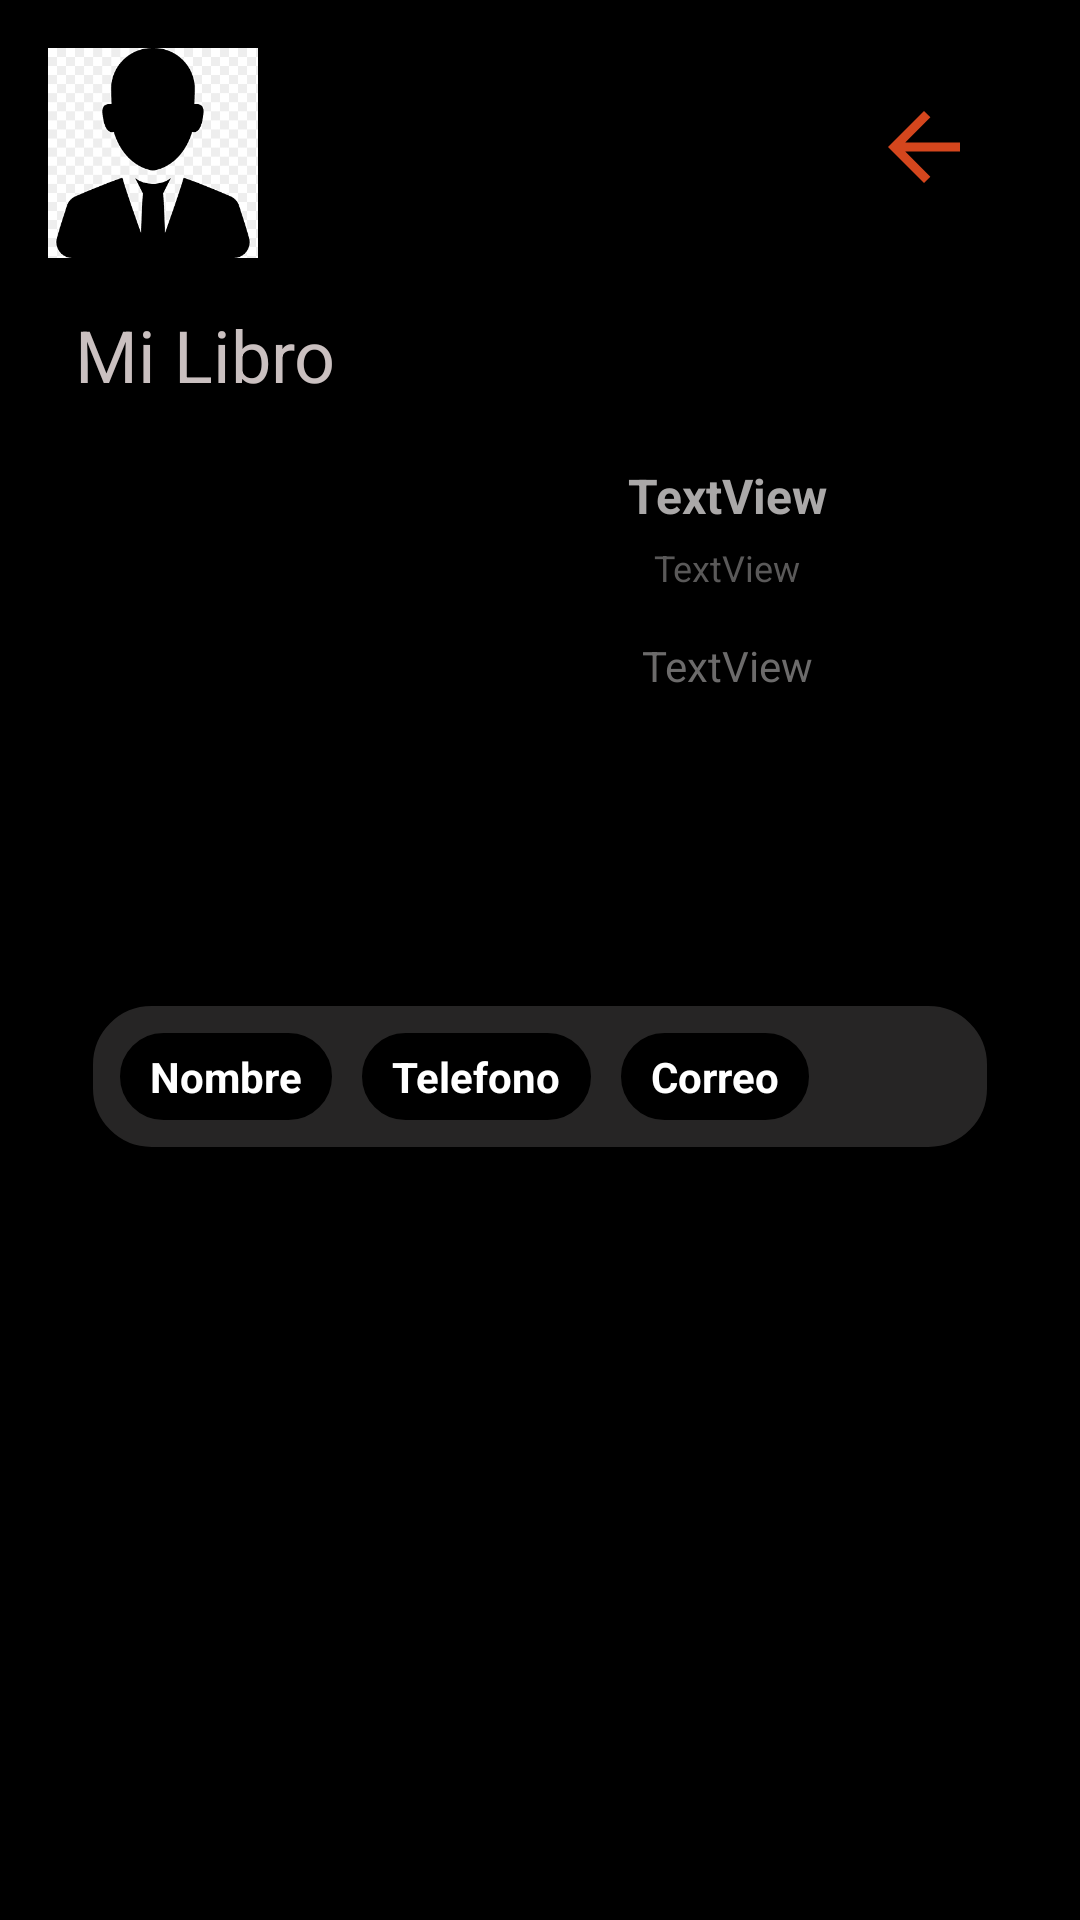

Locate icon controls on the screen. Image size 1080 x 1920, boxes as (x1, y1, x2, y2).
admin: (48, 48, 258, 258)
back flecha: (888, 111, 960, 183)
